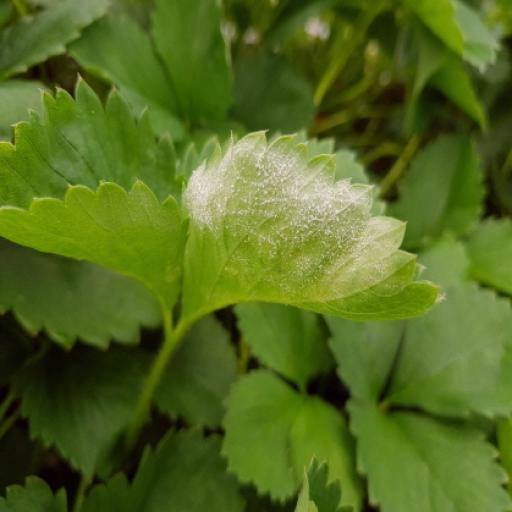Powdery Mildew Leaf: (182, 129, 446, 324)
